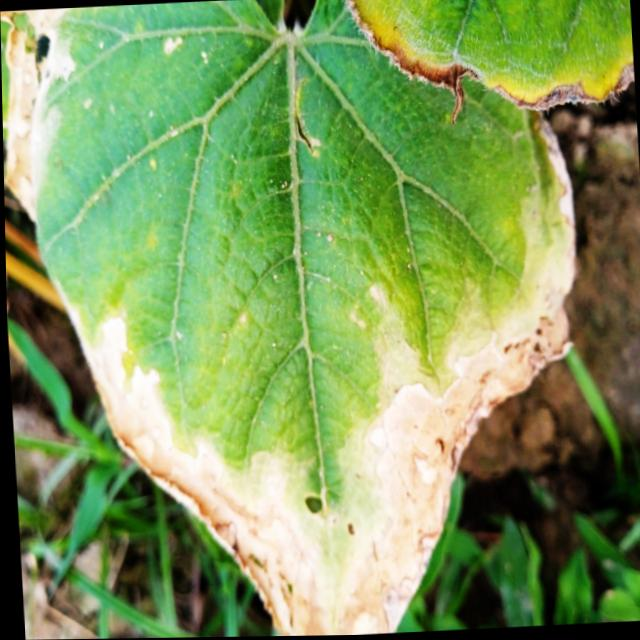Gummy-Stem-Blight: (71, 305, 576, 636), (0, 8, 78, 225)
